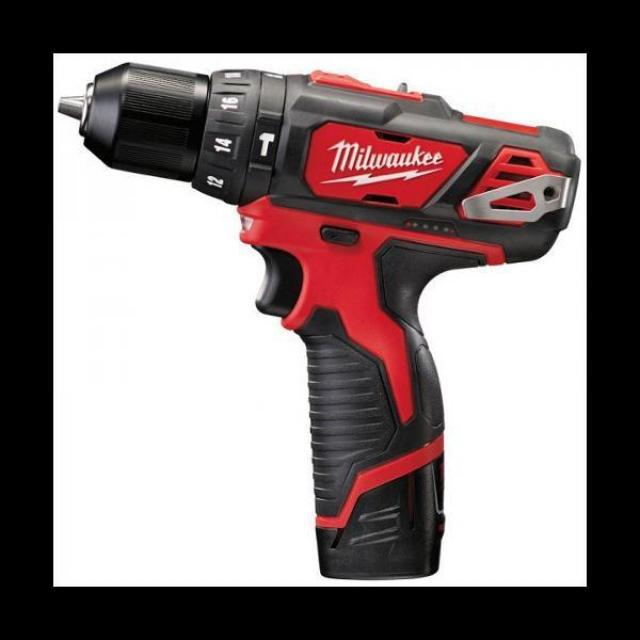drill: (57, 61, 581, 582)
